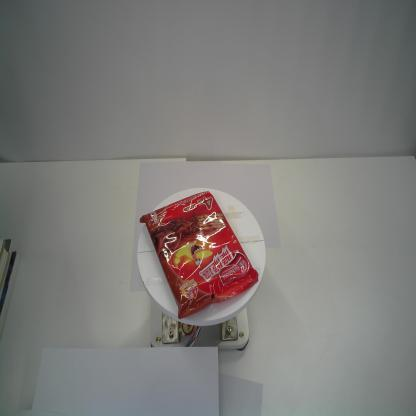Dessert: (138, 191, 260, 320)
